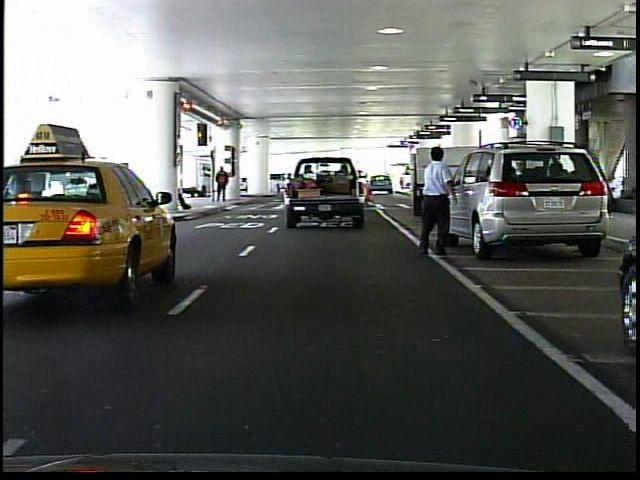person: (408, 143, 461, 266), (213, 163, 232, 205)
